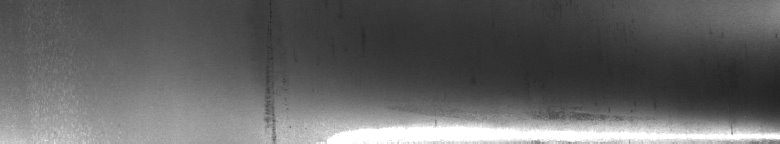ke: (260, 4, 776, 136)
